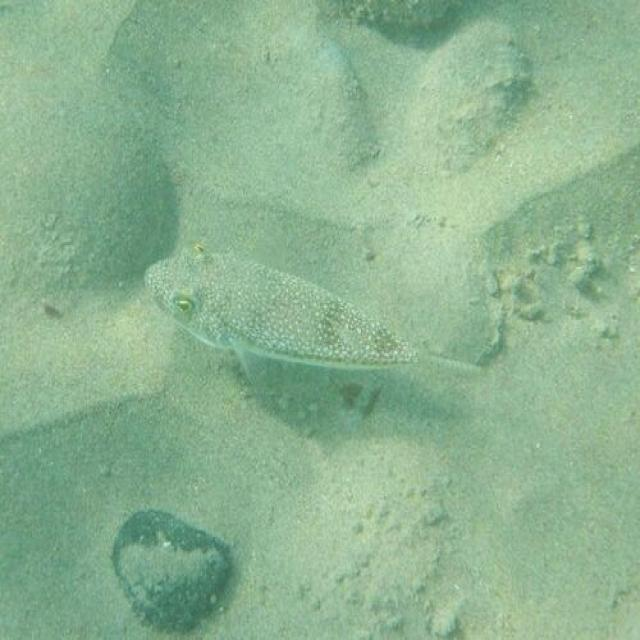Balik: (145, 246, 415, 368)
